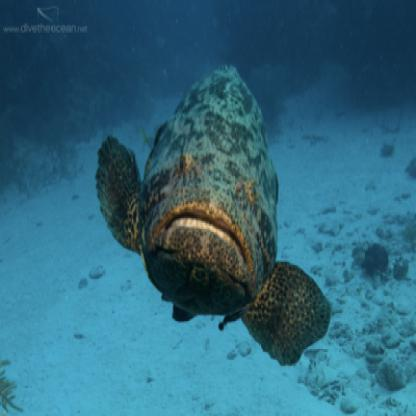Serranidae -Groupers-: (94, 59, 334, 372)
